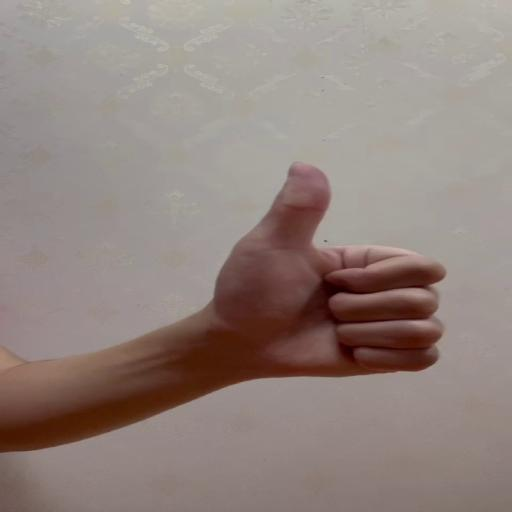thumbs_up: (213, 160, 448, 377)
